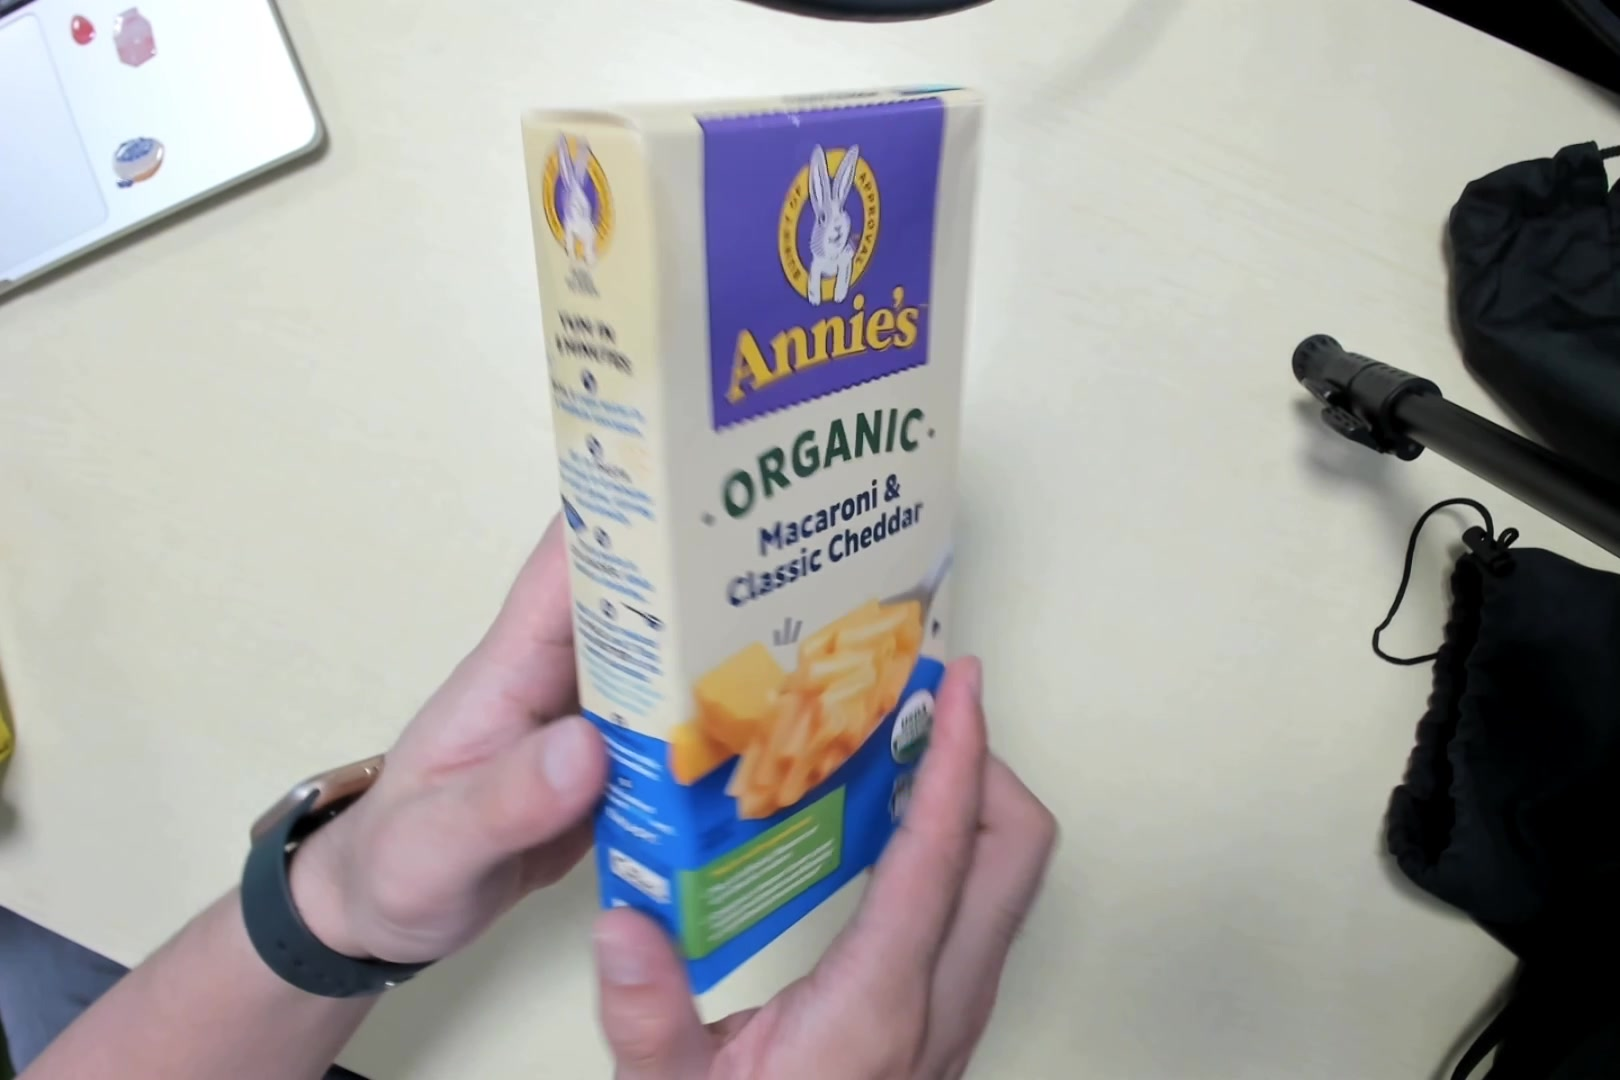InstantMeals_200-299g_NonHalal_NonHealthy: (523, 80, 972, 1029)
